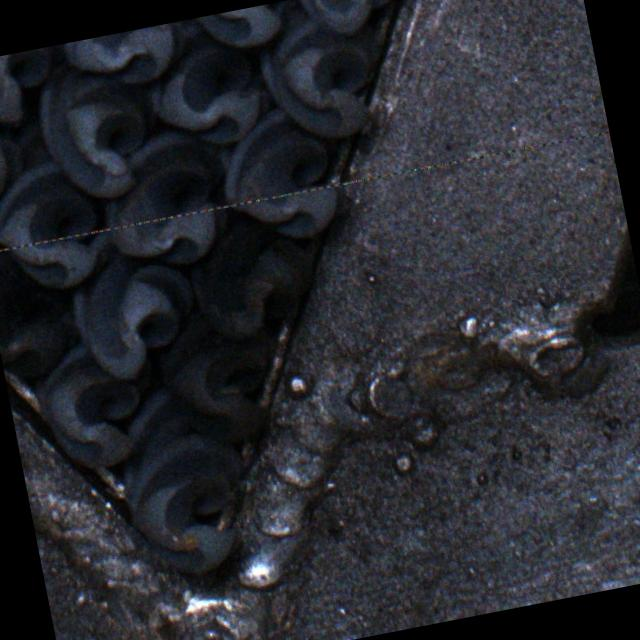tool_b: (104, 370, 260, 578), (246, 0, 385, 151), (148, 300, 284, 453), (134, 11, 274, 158), (64, 245, 207, 387), (183, 210, 325, 348), (31, 56, 160, 206), (26, 335, 152, 476), (92, 122, 236, 228), (215, 100, 337, 202), (0, 245, 82, 381), (64, 20, 196, 95), (0, 154, 101, 250), (107, 206, 234, 276), (5, 228, 121, 296), (232, 186, 346, 252), (183, 0, 302, 57), (0, 43, 77, 129), (297, 0, 425, 39), (0, 62, 30, 208)
